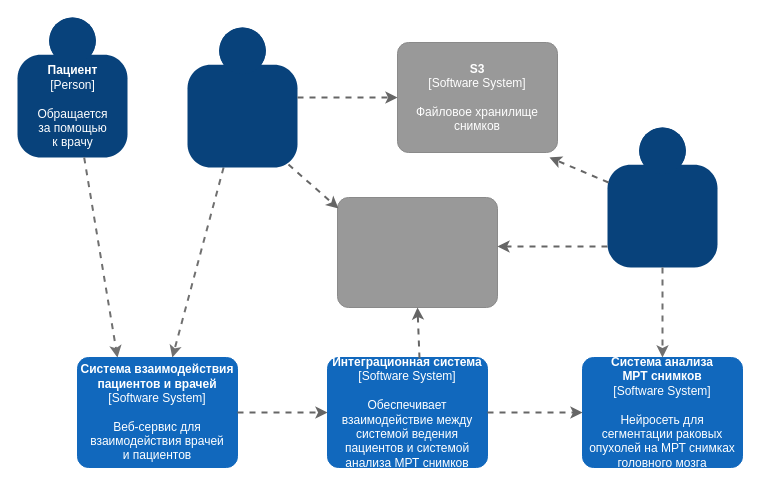
The diagram is 760 pixels wide and 487 high, and some of its shapes have lost their labels. The shapes that lost their labels are listed below. From the top down, each one's centre as x and y in pixels, then its label:
At pixel 242 97: "Врач [Person] Мониторит пациентов".
At pixel 662 197: "ML-инженер [Person] Разрабатывает аналитические модели".
At pixel 417 252: "CVAT [Software System] Система хранения МРТ снимков".
